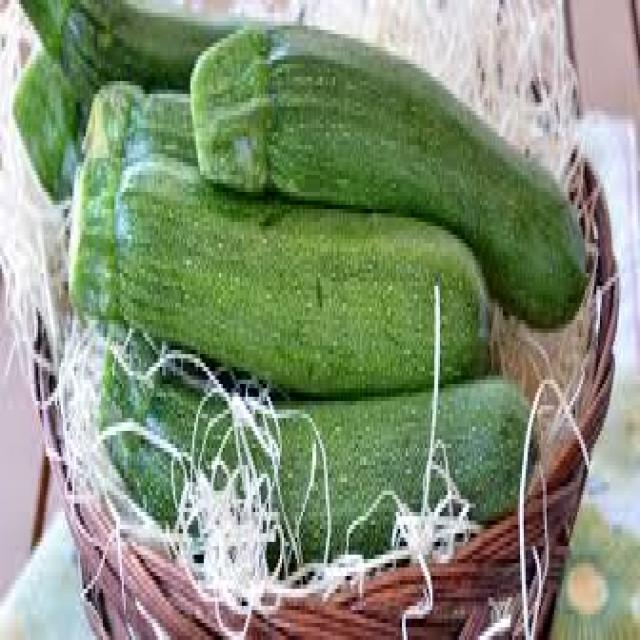Zucchini: (202, 46, 610, 320), (72, 157, 492, 387)
